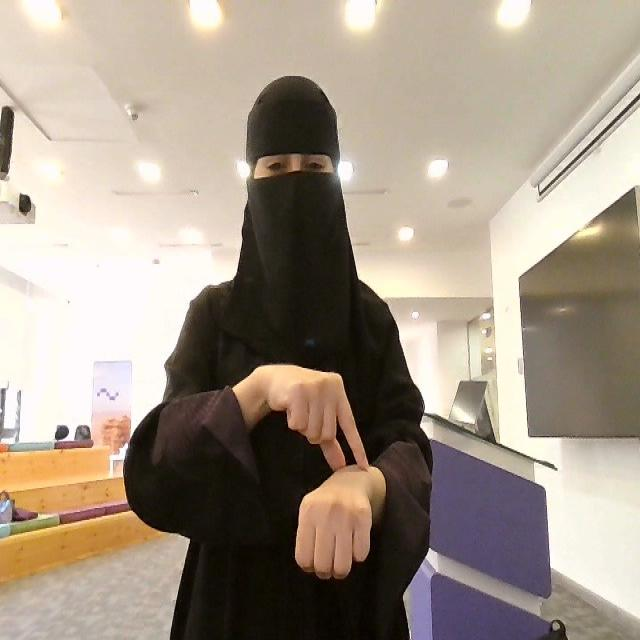appointment: (256, 360, 380, 581)
